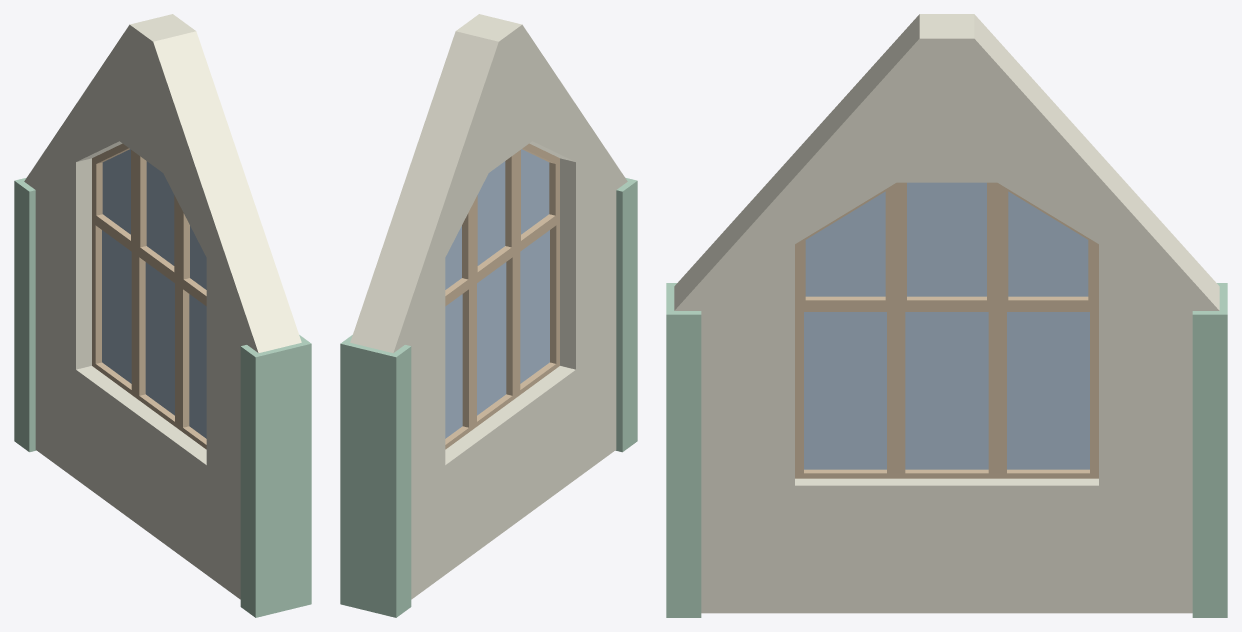
Rendered from Window02_house3.fbx.
3 views of the same model, side by side, from view 1: azimuth 30°, elevation 25°; view 2: azimuth 150°, elevation 25°; view 3: azimuth 270°, elevation 25° (orthographic). The views are drawn at different scales.
Parts seen in each view (by area): view 1: Window02_house3; view 2: Window02_house3; view 3: Window02_house3.
Part boxes in pixels (<box>): Window02_house3: <box>14,14,311,617</box>; Window02_house3: <box>340,14,637,617</box>; Window02_house3: <box>666,14,1227,617</box>.
Bounding box in the file's own units: 74.62 × 631 × 558.
